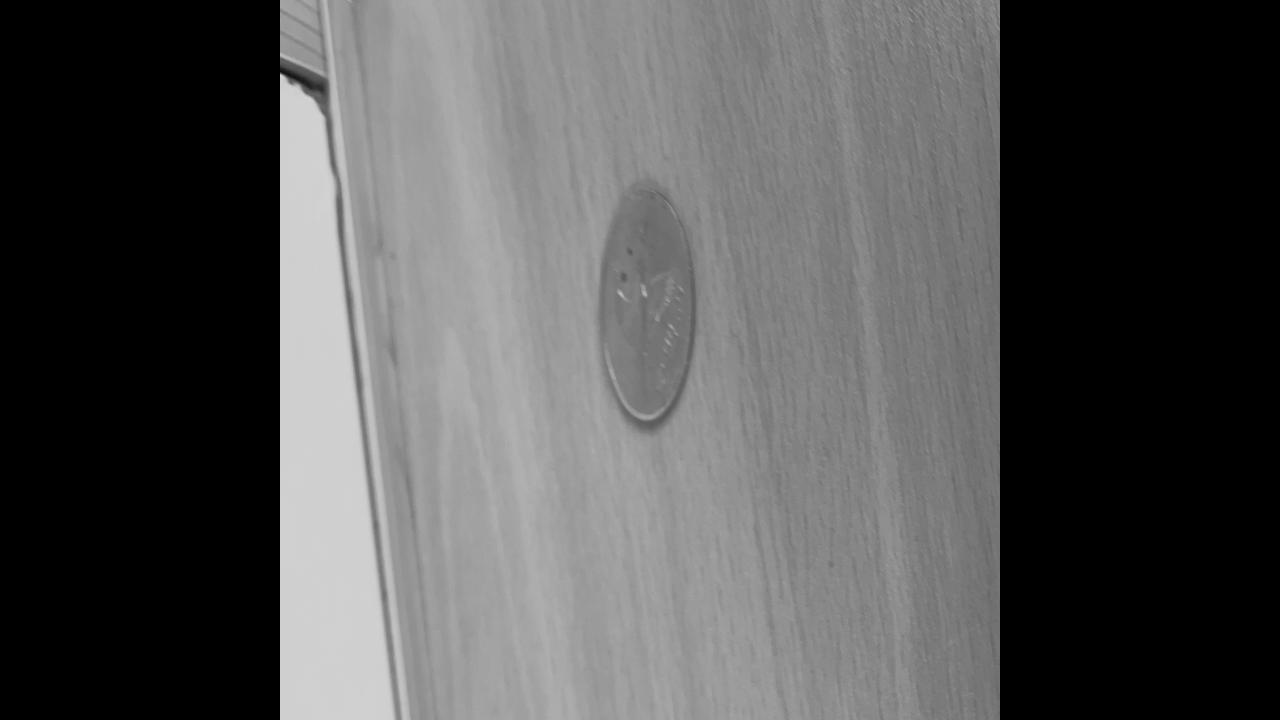coin: (596, 178, 698, 434)
